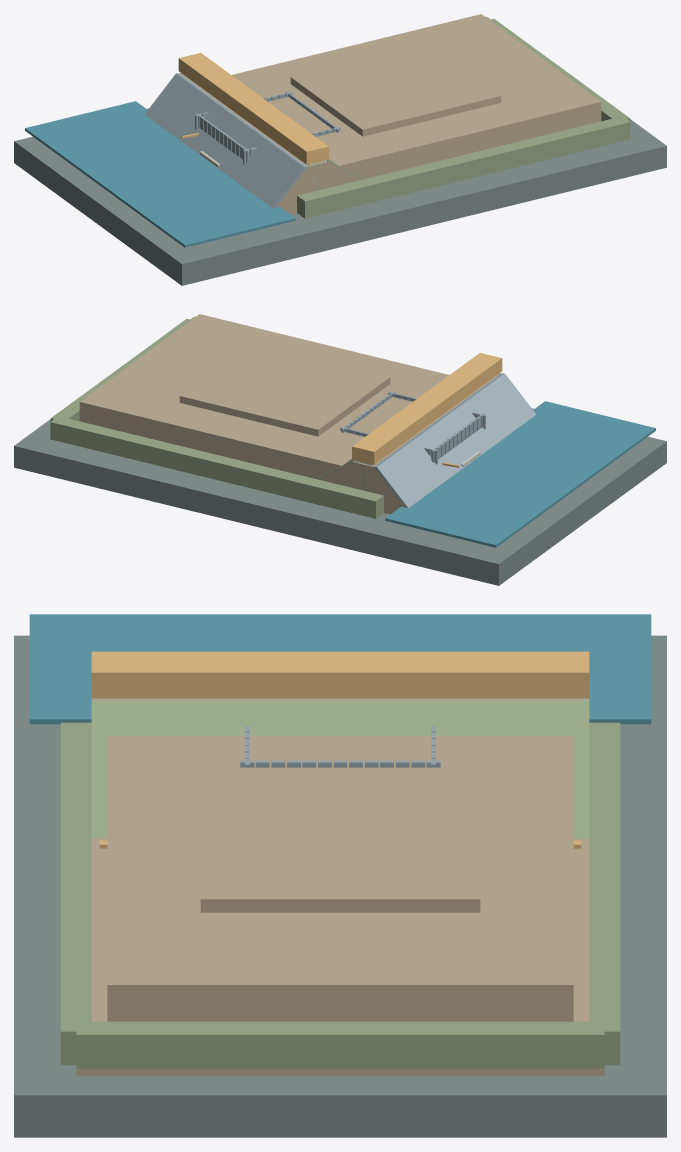
File: world-reclamation.glb
3 renders of one model, top to bottom at view 1: azimuth 30°, elevation 25°; view 2: azimuth 150°, elevation 25°; view 3: azimuth 270°, elevation 25°, orthographic. The views are drawn at different scales.
Parts seen in each view (by area): view 1: stage-0-excavated-strata-, stage-4-compacted-fill-comparison, stage-0-water-section-sea, stage-4-compacted-fill-surcharge, stage-3-landscape-returns, stage-3-structural-steel-rock, stage-8-safety-ochre-future, stage-3-compacted-fill-dike, stage-1-structural-steel-enclosure; view 2: stage-0-excavated-strata-, stage-4-compacted-fill-comparison, stage-0-water-section-sea, stage-4-compacted-fill-surcharge, stage-3-landscape-returns, stage-3-structural-steel-rock, stage-8-safety-ochre-future, stage-3-compacted-fill-dike, stage-1-structural-steel-enclosure; view 3: stage-4-compacted-fill-comparison, stage-0-excavated-strata-, stage-3-landscape-returns, stage-4-compacted-fill-surcharge, stage-0-water-section-sea, stage-8-safety-ochre-future, stage-3-landscape-grass, stage-0-compacted-fill-land, stage-1-structural-steel-enclosure, stage-3-compacted-fill-dike.
Boxes of the visible parts, x1=… form: stage-0-excavated-strata-: x1=14, y1=108, x2=666, y2=285; stage-4-compacted-fill-comparison: x1=232, y1=14, x2=601, y2=178; stage-0-water-section-sea: x1=25, y1=101, x2=295, y2=247; stage-4-compacted-fill-surcharge: x1=290, y1=43, x2=501, y2=136; stage-3-landscape-returns: x1=297, y1=16, x2=630, y2=218; stage-3-structural-steel-rock: x1=144, y1=73, x2=306, y2=208; stage-8-safety-ochre-future: x1=178, y1=53, x2=328, y2=164; stage-3-compacted-fill-dike: x1=180, y1=73, x2=360, y2=214; stage-1-structural-steel-enclosure: x1=195, y1=91, x2=340, y2=164; stage-0-excavated-strata-: x1=14, y1=408, x2=666, y2=585; stage-4-compacted-fill-comparison: x1=79, y1=314, x2=448, y2=478; stage-0-water-section-sea: x1=385, y1=401, x2=655, y2=547; stage-4-compacted-fill-surcharge: x1=179, y1=343, x2=390, y2=436; stage-3-landscape-returns: x1=50, y1=316, x2=383, y2=518; stage-3-structural-steel-rock: x1=374, y1=373, x2=536, y2=508; stage-8-safety-ochre-future: x1=352, y1=353, x2=502, y2=464; stage-3-compacted-fill-dike: x1=320, y1=373, x2=500, y2=514; stage-1-structural-steel-enclosure: x1=340, y1=391, x2=485, y2=464; stage-4-compacted-fill-comparison: x1=107, y1=736, x2=573, y2=1021; stage-0-excavated-strata-: x1=14, y1=635, x2=666, y2=1137; stage-3-landscape-returns: x1=60, y1=722, x2=620, y2=1068; stage-4-compacted-fill-surcharge: x1=200, y1=767, x2=480, y2=912; stage-0-water-section-sea: x1=29, y1=614, x2=651, y2=724; stage-8-safety-ochre-future: x1=91, y1=651, x2=589, y2=697; stage-3-landscape-grass: x1=91, y1=700, x2=589, y2=838; stage-0-compacted-fill-land: x1=76, y1=838, x2=604, y2=1075; stage-1-structural-steel-enclosure: x1=240, y1=726, x2=440, y2=767; stage-3-compacted-fill-dike: x1=91, y1=698, x2=589, y2=700.
Bounding box in the file's own units: 70 × 11.6 × 42.
